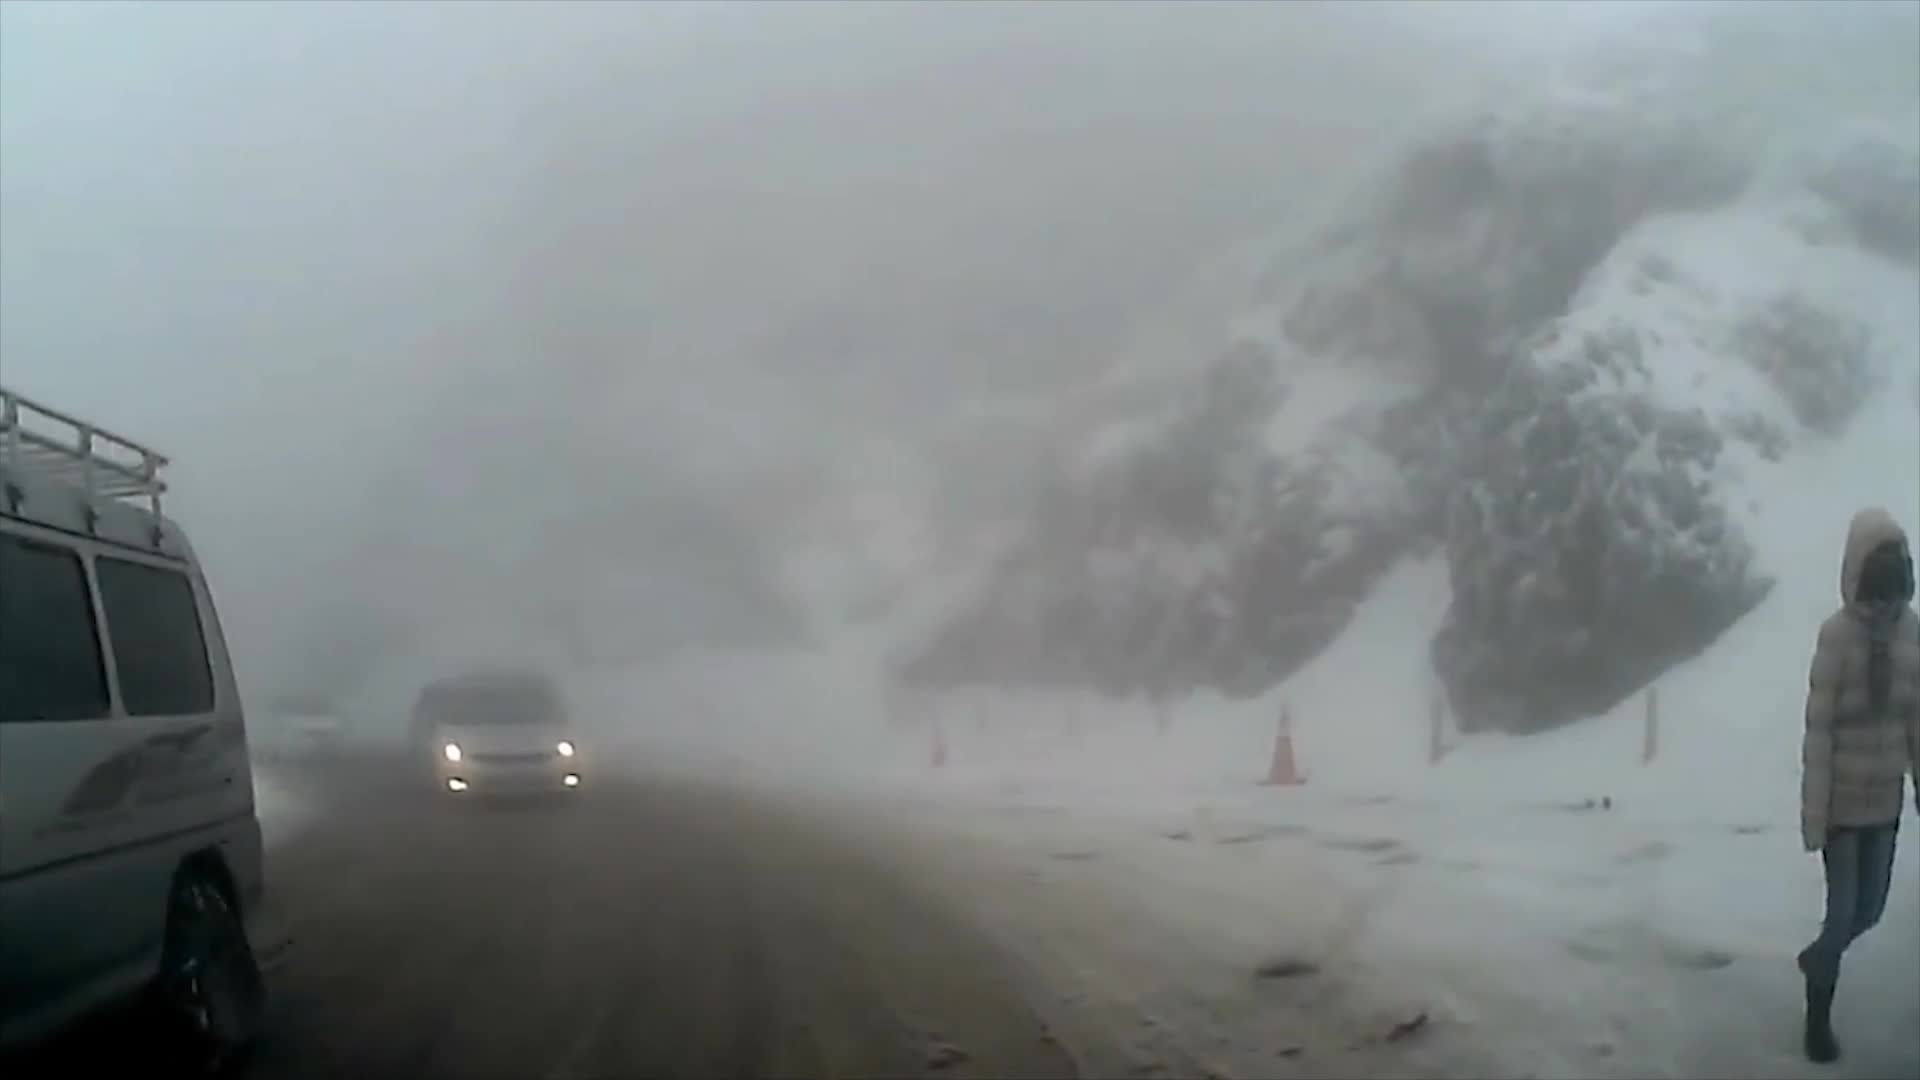pedestrian: (1803, 505, 1919, 1064)
vehicle: (0, 386, 302, 1080), (403, 674, 586, 814)
